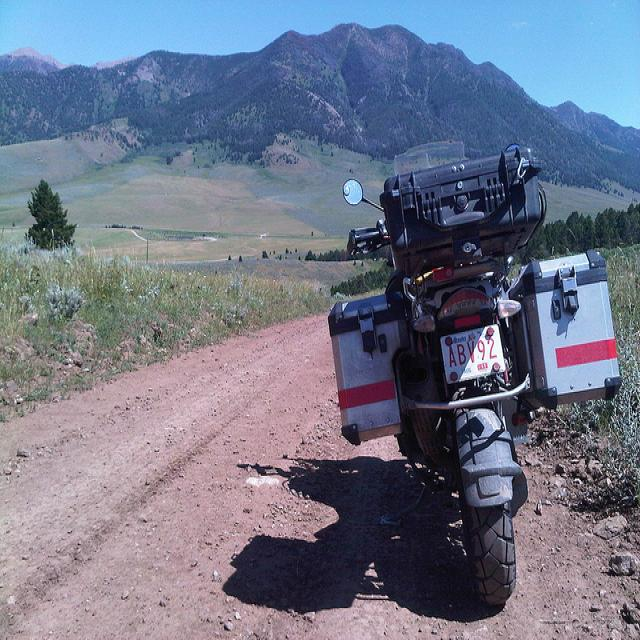motor: (325, 136, 630, 609)
